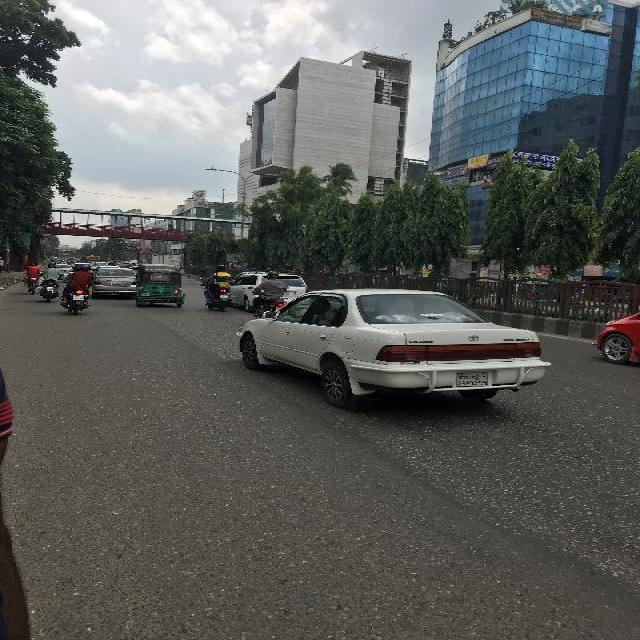10: (59, 264, 93, 316), (252, 271, 288, 317), (199, 264, 233, 310), (39, 262, 62, 302)
17: (134, 263, 183, 307)
5: (235, 289, 552, 409), (230, 271, 310, 311), (93, 268, 136, 296), (56, 264, 72, 274)
9: (89, 262, 108, 268)
Motorcycle: (24, 262, 40, 294)
Truck: (80, 254, 100, 264)
